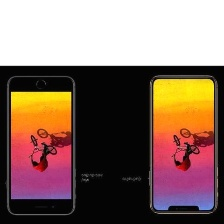phone: (146, 71, 221, 217), (4, 72, 78, 219)
